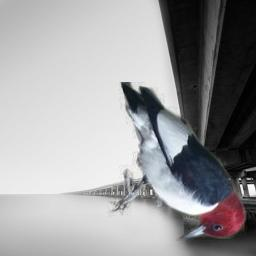Woodpecker: (107, 82, 247, 241)
